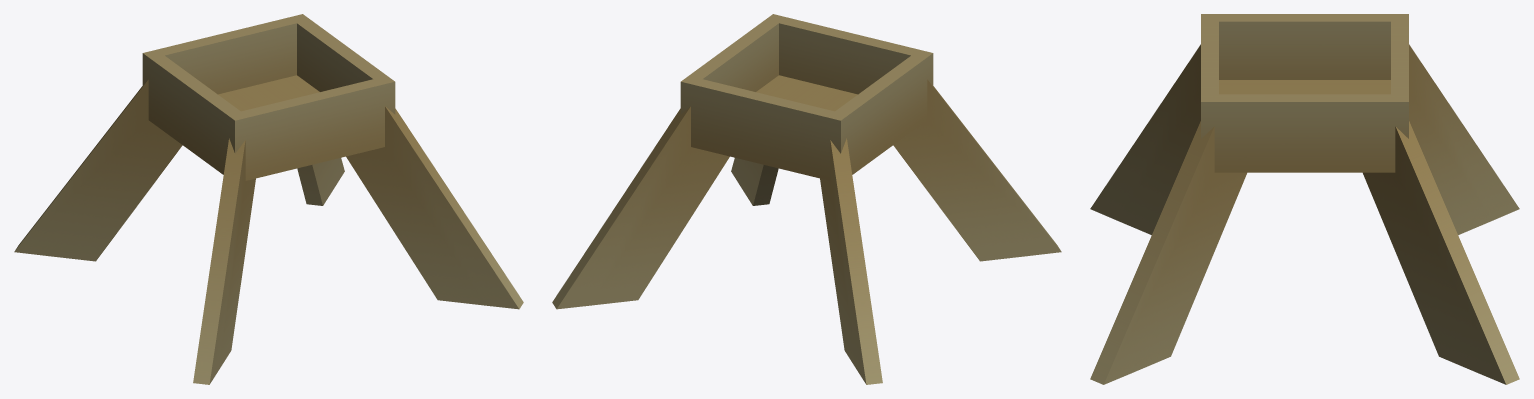
Rendered from aquaduct0.glb.
3 renders of one model, left to right at view 1: azimuth 30°, elevation 25°; view 2: azimuth 150°, elevation 25°; view 3: azimuth 270°, elevation 25°, orthographic. The views are drawn at different scales.
Visible parts, largest first — view 1: Aquaduct0; view 2: Aquaduct0; view 3: Aquaduct0.
Part boxes in pixels (box(x1,y1,x2,y2)): Aquaduct0: box(14, 14, 523, 384); Aquaduct0: box(552, 14, 1061, 384); Aquaduct0: box(1090, 14, 1519, 384).
Bounding box in the file's own units: 1.67 × 1.01 × 1.67.
1 material, 1 textured.
